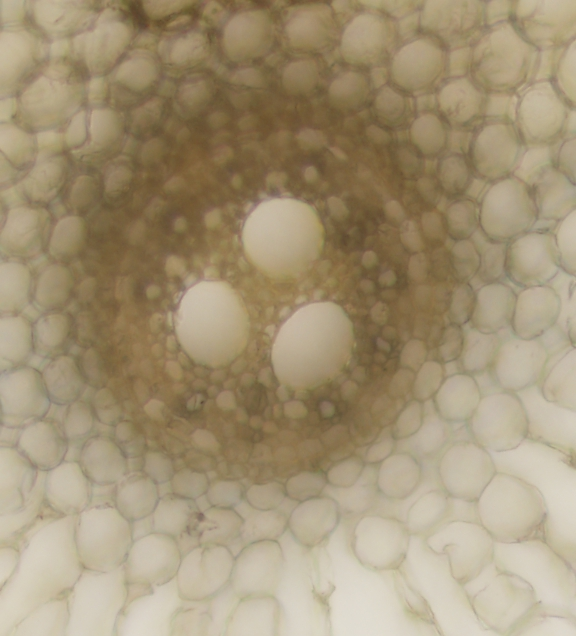lm: (270, 301, 355, 396), (241, 196, 327, 282), (174, 281, 251, 368)
